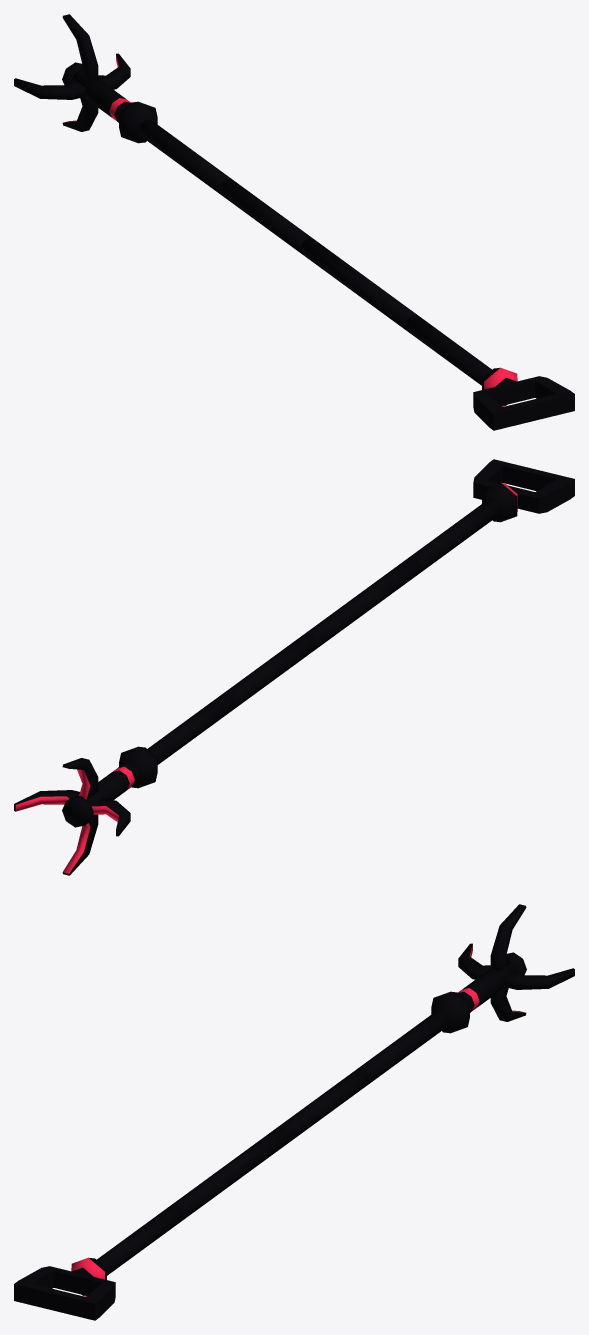
The model's file is Grappling.fbx.
The picture shows the model from 3 angles, top to bottom: view 1: azimuth 30°, elevation 25°; view 2: azimuth 150°, elevation 25°; view 3: azimuth 330°, elevation 25°; orthographic projection.
Parts seen in each view (by area): view 1: Grappling_Start, Grappling_End, Grappling_Mid__1_, Grappling_Mid, Grappling_Mid__4_, Grappling_Mid__3_, Grappling_Mid__2_; view 2: Grappling_Start, Grappling_End, Grappling_Mid__1_, Grappling_Mid__4_, Grappling_Mid, Grappling_Mid__2_, Grappling_Mid__3_; view 3: Grappling_Start, Grappling_End, Grappling_Mid, Grappling_Mid__1_, Grappling_Mid__4_, Grappling_Mid__3_, Grappling_Mid__2_.
Boxes of the visible parts, x1,y1,x2,y2 form: Grappling_Start: (14, 14, 157, 143); Grappling_End: (473, 367, 574, 430); Grappling_Mid__1_: (219, 179, 313, 254); Grappling_Mid: (138, 120, 232, 194); Grappling_Mid__4_: (405, 315, 491, 385); Grappling_Mid__3_: (300, 238, 393, 312); Grappling_Mid__2_: (324, 255, 418, 330); Grappling_Start: (14, 746, 157, 875); Grappling_End: (473, 459, 574, 522); Grappling_Mid__1_: (222, 634, 315, 709); Grappling_Mid__4_: (408, 499, 500, 572); Grappling_Mid: (147, 693, 235, 764); Grappling_Mid__2_: (333, 557, 421, 632); Grappling_Mid__3_: (303, 579, 394, 650); Grappling_Start: (431, 904, 574, 1033); Grappling_End: (14, 1257, 115, 1320); Grappling_Mid: (356, 1010, 450, 1084); Grappling_Mid__1_: (276, 1069, 369, 1144); Grappling_Mid__4_: (97, 1205, 183, 1275); Grappling_Mid__3_: (195, 1127, 289, 1197); Grappling_Mid__2_: (170, 1146, 264, 1220).
Bounding box in the file's own units: 59.65 × 59.65 × 462.
Materials: 1 (1 with a texture image).
